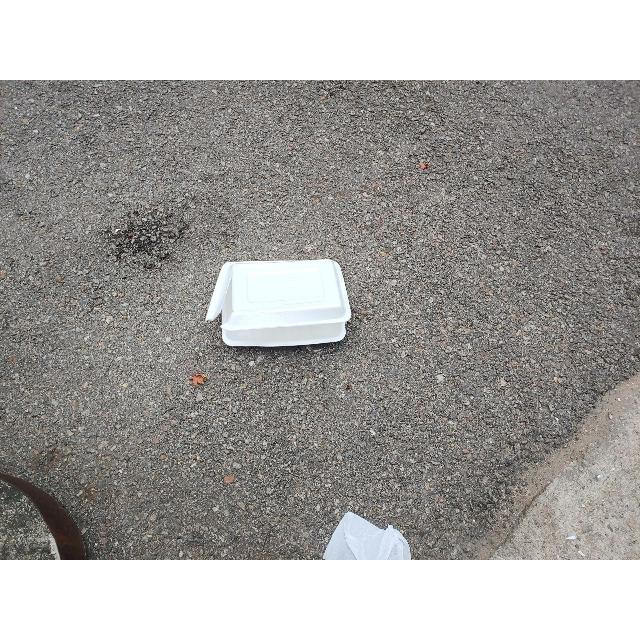Recipiente plastico: (206, 260, 351, 346)
